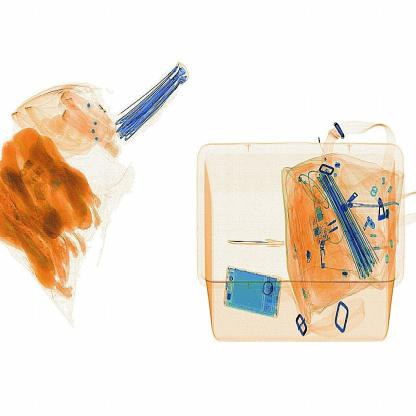wrench: (222, 228, 290, 254)
